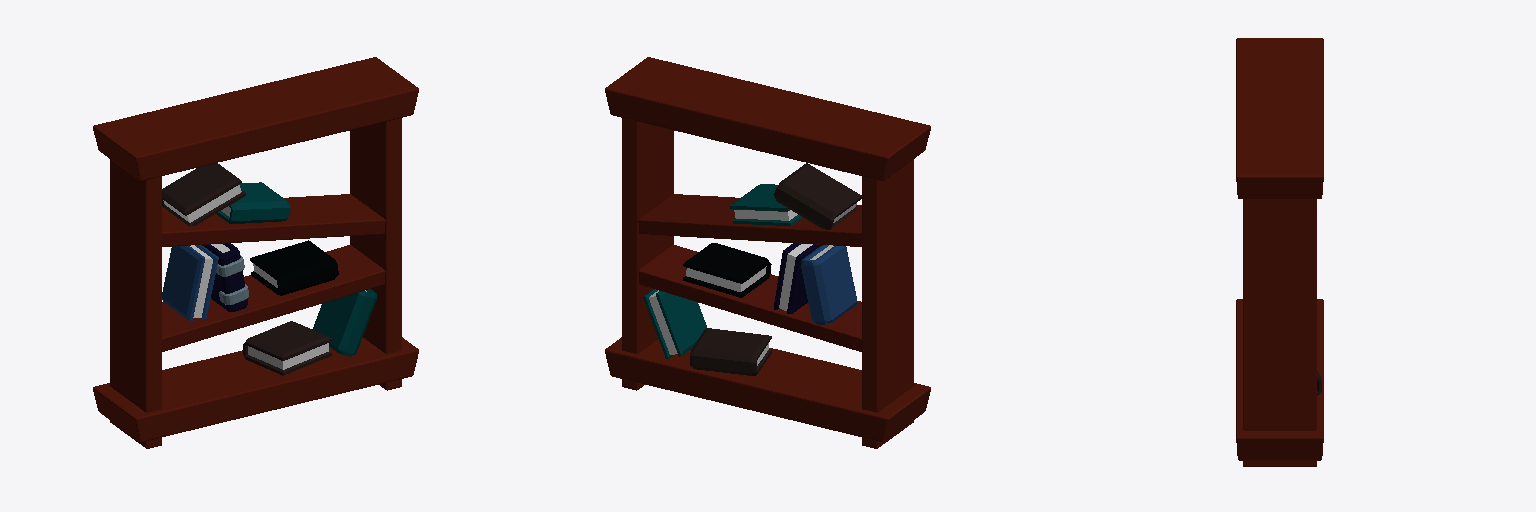
File: bookcaseWideFilled_broken.obj
3 views of the same model, side by side, from view 1: azimuth 30°, elevation 25°; view 2: azimuth 150°, elevation 25°; view 3: azimuth 270°, elevation 25° (orthographic).
Visible parts, largest first — view 1: bookcaseWideFilled_broken_Cube.4111; view 2: bookcaseWideFilled_broken_Cube.4111; view 3: bookcaseWideFilled_broken_Cube.4111.
Part boxes in pixels (x1,y1,x2,y2): bookcaseWideFilled_broken_Cube.4111: (93, 57, 418, 448); bookcaseWideFilled_broken_Cube.4111: (605, 57, 930, 448); bookcaseWideFilled_broken_Cube.4111: (1236, 38, 1323, 466).
Size of the model in its own units: 1.99 by 2 by 0.5333.